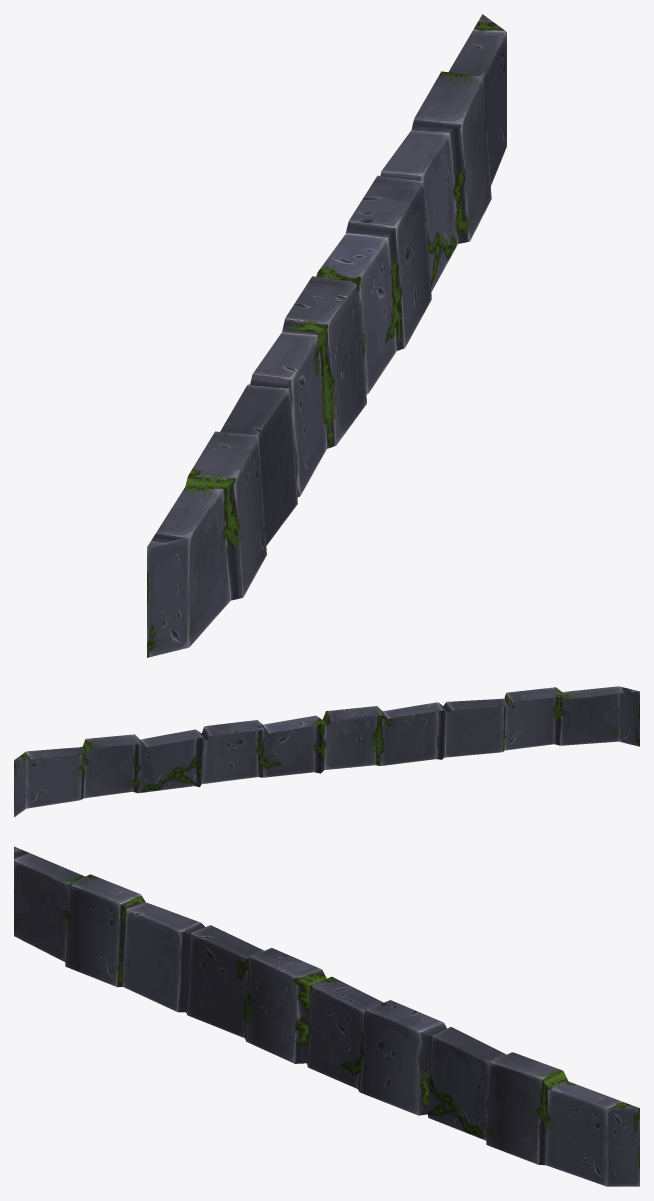
Rendered from MOD_WallTrim_01_M_angle_1.fbx.
3 views of the same model, one above another, from view 1: azimuth 30°, elevation 25°; view 2: azimuth 150°, elevation 25°; view 3: azimuth 270°, elevation 25° (orthographic). The views are drawn at different scales.
Visible parts, largest first — view 1: MOD_WallTrim_01_M_angle_1; view 2: MOD_WallTrim_01_M_angle_1; view 3: MOD_WallTrim_01_M_angle_1.
Part boxes in pixels (<box>): MOD_WallTrim_01_M_angle_1: <box>147,14,506,657</box>; MOD_WallTrim_01_M_angle_1: <box>14,686,639,817</box>; MOD_WallTrim_01_M_angle_1: <box>14,846,639,1186</box>.
Bounding box in the file's own units: 375 × 55.19 × 375.
